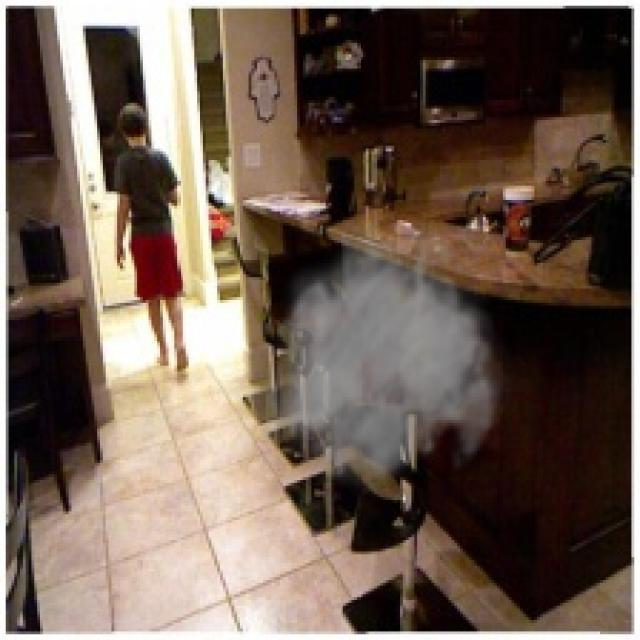smoke: (266, 217, 517, 497)
